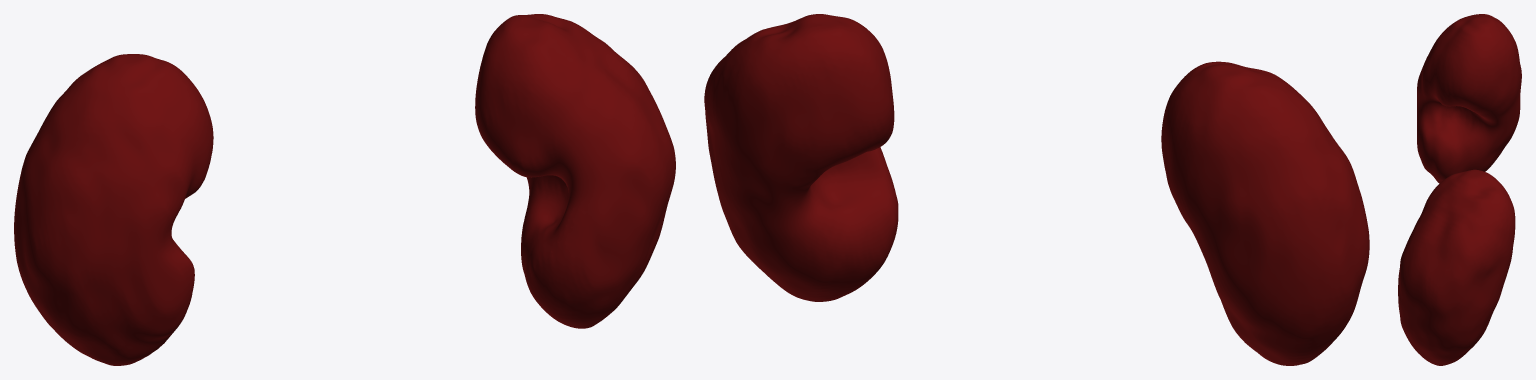
File: renal_segmentation.glb
The picture shows the model from 3 angles, left to right: view 1: azimuth 30°, elevation 25°; view 2: azimuth 150°, elevation 25°; view 3: azimuth 270°, elevation 25°; orthographic projection. The views are drawn at different scales.
Parts seen in each view (by area): view 1: Object_2; view 2: Object_2; view 3: Object_2.
Boxes of the visible parts, x1=… form: Object_2: x1=14, y1=14, x2=675, y2=365; Object_2: x1=704, y1=14, x2=1369, y2=365; Object_2: x1=1398, y1=14, x2=1521, y2=365.
Size of the model in its own units: 196 by 102 by 53.59.
